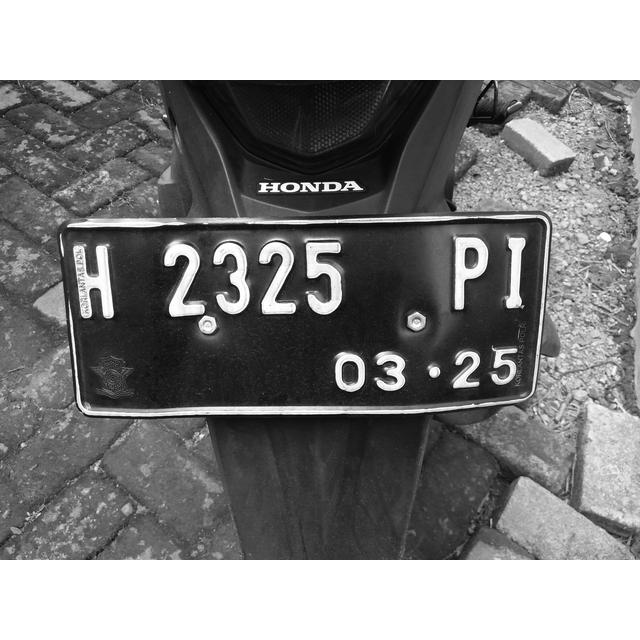license: (67, 233, 531, 396)
